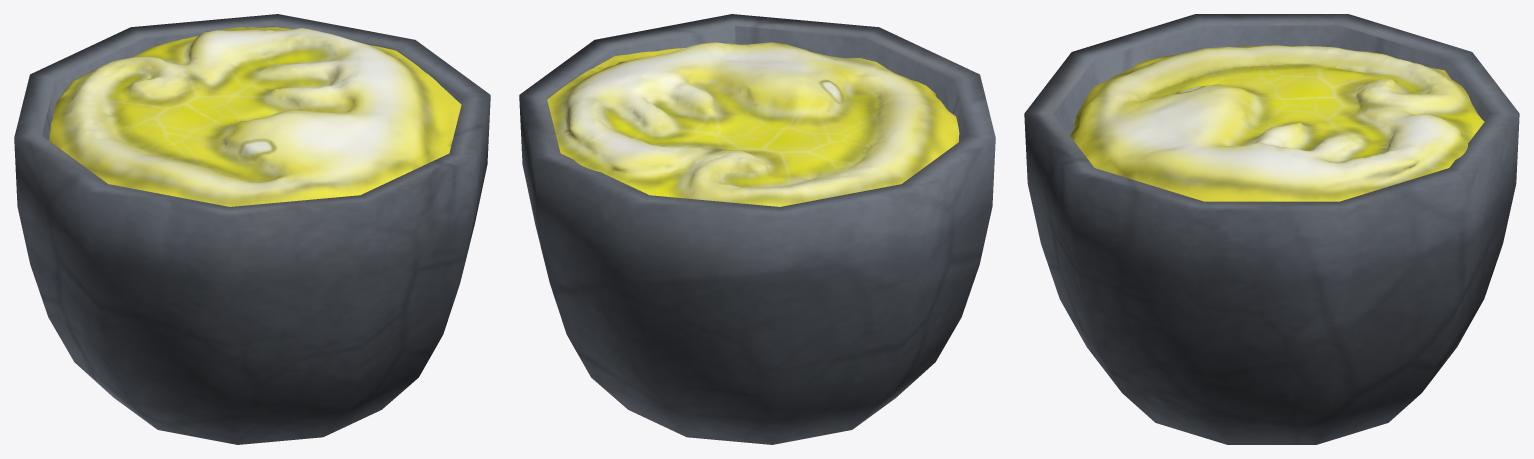
The model's file is halfEgg.fbx.
3 renders of one model, left to right at view 1: azimuth 30°, elevation 25°; view 2: azimuth 150°, elevation 25°; view 3: azimuth 270°, elevation 25°, orthographic.
Parts seen in each view (by area): view 1: halfEggBake, innerEggBake; view 2: halfEggBake, innerEggBake; view 3: halfEggBake, innerEggBake.
Boxes of the visible parts, x1,y1,x2,y2 form: halfEggBake: [14, 14, 490, 444]; innerEggBake: [49, 27, 461, 206]; halfEggBake: [519, 14, 995, 444]; innerEggBake: [547, 42, 959, 206]; halfEggBake: [1024, 14, 1519, 444]; innerEggBake: [1070, 45, 1484, 201].
Bounding box in the file's own units: 173 × 125 × 182.
